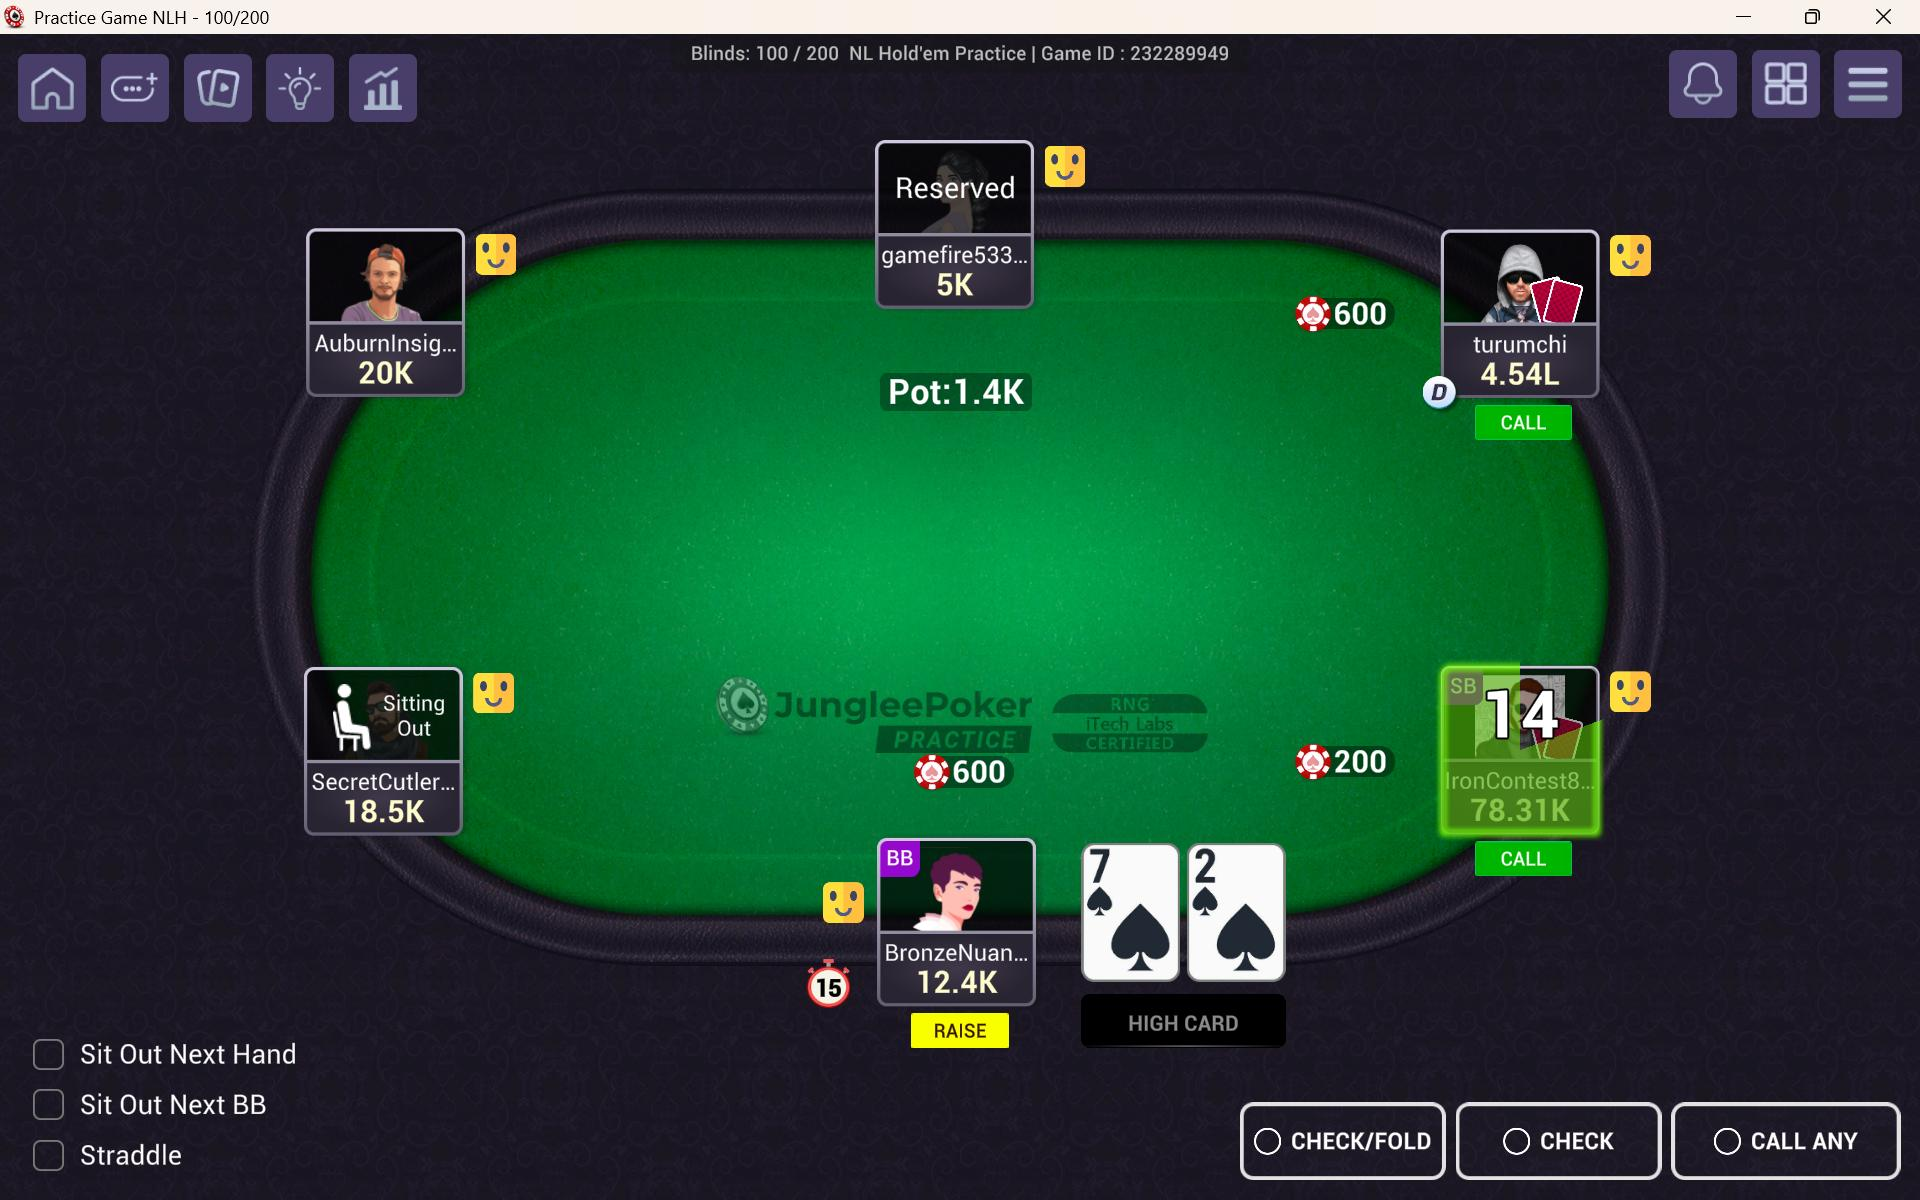card1_rank: (1085, 845, 1140, 885)
card1_suite_spades: (1098, 893, 1180, 980)
card2_rank: (1185, 845, 1247, 894)
card2_suite_spades: (1205, 903, 1287, 980)
game_id: (1030, 40, 1245, 75)
my_bet: (912, 755, 1020, 792)
my_stack: (912, 971, 1015, 1002)
position_BB: (881, 838, 928, 882)
position_SB: (1440, 668, 1485, 705)
villian1_name: (307, 767, 458, 795)
villian1_stack: (333, 800, 427, 832)
villian2_name: (307, 330, 460, 359)
villian2_stack: (335, 358, 430, 390)
villian3_name: (878, 235, 1035, 267)
villian3_stack: (910, 270, 992, 306)
villian4_bet: (1292, 293, 1400, 335)
villian4_name: (1456, 330, 1590, 355)
villian4_stack: (1468, 359, 1583, 390)
villian5_bet: (1295, 740, 1397, 792)
villian5_name: (1444, 765, 1605, 802)
villian5_stack: (1465, 795, 1577, 841)
